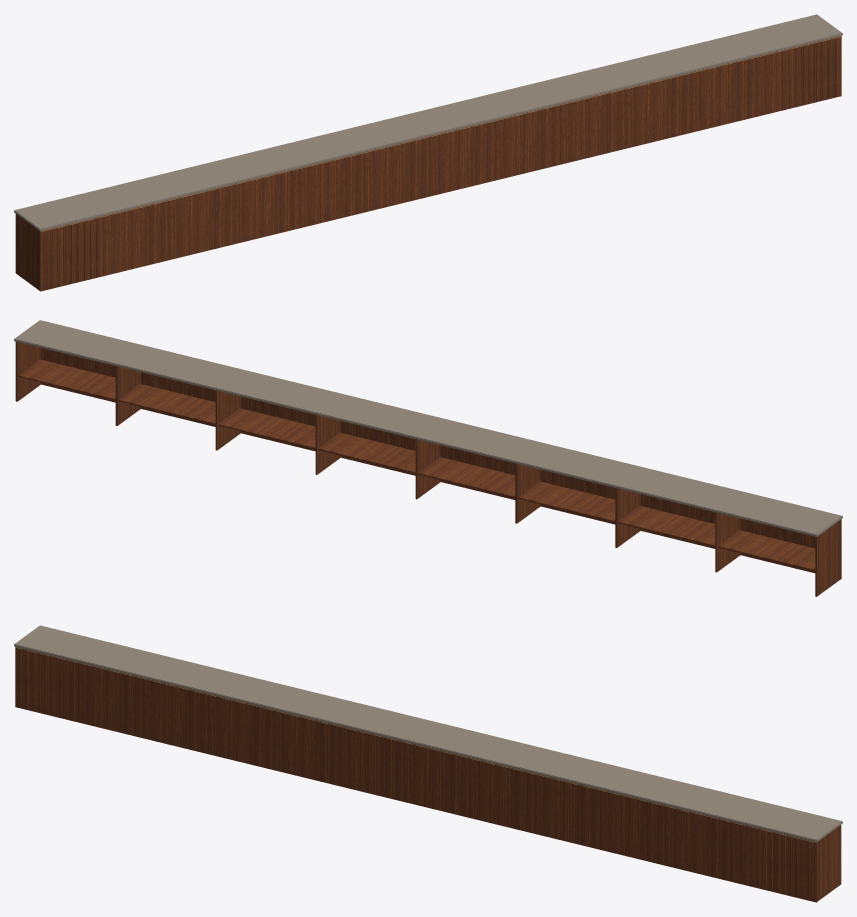
The model's file is MDFServingCounter.glb.
3 views of the same model, one above another, from view 1: azimuth 30°, elevation 25°; view 2: azimuth 150°, elevation 25°; view 3: azimuth 330°, elevation 25° (orthographic).
Visible parts, largest first — view 1: Full walnut MDF front, Continuous laminate worktop, MDF support 01, Champagne edge detail; view 2: Continuous laminate worktop, Full walnut MDF front, Chef shelf 01, Chef shelf 02, Chef shelf 03, Chef shelf 04, Chef shelf 06, Chef shelf 05, Chef shelf 08, Chef shelf 07, MDF support 01, MDF support 09 (+7 smaller); view 3: Full walnut MDF front, Continuous laminate worktop, MDF support 09, Champagne edge detail.
Boxes of the visible parts, x1,y1,x2,y2 form: Full walnut MDF front: (39, 36, 841, 291); Continuous laminate worktop: (14, 14, 842, 231); MDF support 01: (15, 214, 39, 290); Champagne edge detail: (40, 36, 841, 231); Continuous laminate worktop: (14, 320, 842, 536); Full walnut MDF front: (41, 348, 841, 578); Chef shelf 01: (718, 530, 815, 571); Chef shelf 02: (618, 506, 715, 546); Chef shelf 03: (518, 481, 615, 522); Chef shelf 04: (418, 457, 515, 497); Chef shelf 06: (218, 408, 315, 449); Chef shelf 05: (318, 432, 415, 473); Chef shelf 08: (18, 359, 115, 400); Chef shelf 07: (118, 384, 215, 424); MDF support 01: (815, 520, 840, 596); MDF support 09: (15, 341, 40, 401); Full walnut MDF front: (15, 647, 817, 902); Continuous laminate worktop: (14, 625, 842, 842); MDF support 09: (817, 825, 841, 901); Champagne edge detail: (15, 647, 816, 842).
Size of what is drawn, in the model's own units: 16 by 1.2 by 0.9.
Materials: 3 (1 with a texture image).
